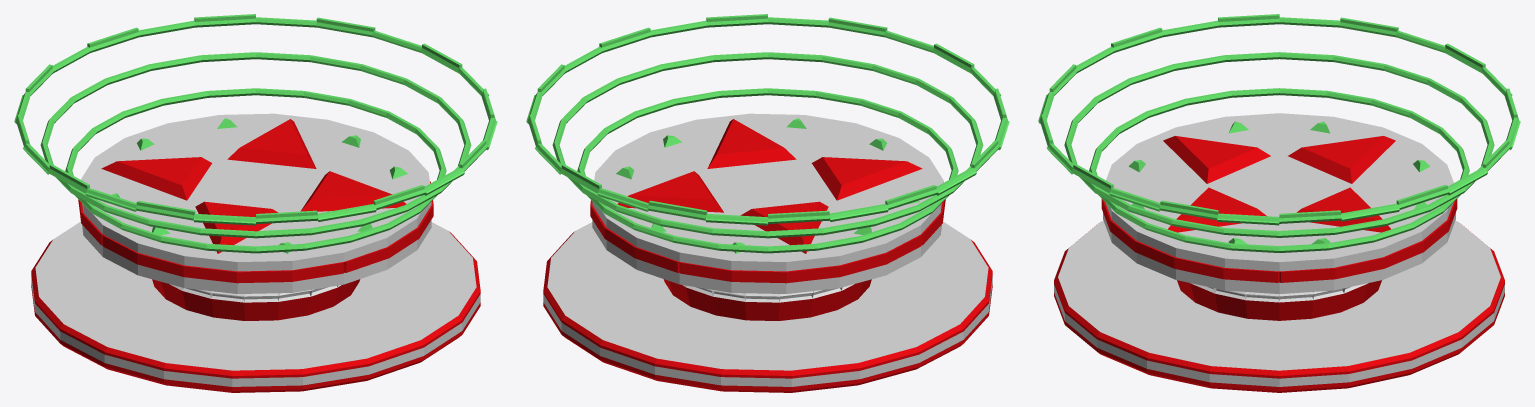
Rendered from HeliumPlatform.fbx.
The picture shows the model from 3 angles, left to right: view 1: azimuth 30°, elevation 25°; view 2: azimuth 150°, elevation 25°; view 3: azimuth 270°, elevation 25°; orthographic projection.
Visible parts, largest first — view 1: Cylinder, Cylinder.002, Torus.003, Torus.002, Torus.001, Cylinder.001; view 2: Cylinder, Cylinder.002, Torus.003, Torus.002, Torus.001, Cylinder.001; view 3: Cylinder, Cylinder.002, Torus.003, Torus.002, Torus.001, Cylinder.001.
Part boxes in pixels (<box>): Cylinder: <box>78,113,433,293</box>; Cylinder.002: <box>31,221,480,392</box>; Torus.003: <box>14,14,497,225</box>; Torus.002: <box>40,52,471,238</box>; Torus.001: <box>65,88,446,253</box>; Cylinder.001: <box>152,279,360,320</box>; Cylinder: <box>590,113,945,293</box>; Cylinder.002: <box>543,221,992,392</box>; Torus.003: <box>526,14,1009,225</box>; Torus.002: <box>552,52,983,238</box>; Torus.001: <box>577,88,958,253</box>; Cylinder.001: <box>663,279,871,320</box>; Cylinder: <box>1101,113,1457,293</box>; Cylinder.002: <box>1054,221,1504,392</box>; Torus.003: <box>1038,14,1520,225</box>; Torus.002: <box>1064,52,1494,237</box>; Torus.001: <box>1089,88,1469,252</box>; Cylinder.001: <box>1177,280,1381,320</box>.
Bounding box in the file's own units: 1369 × 578 × 1369.
